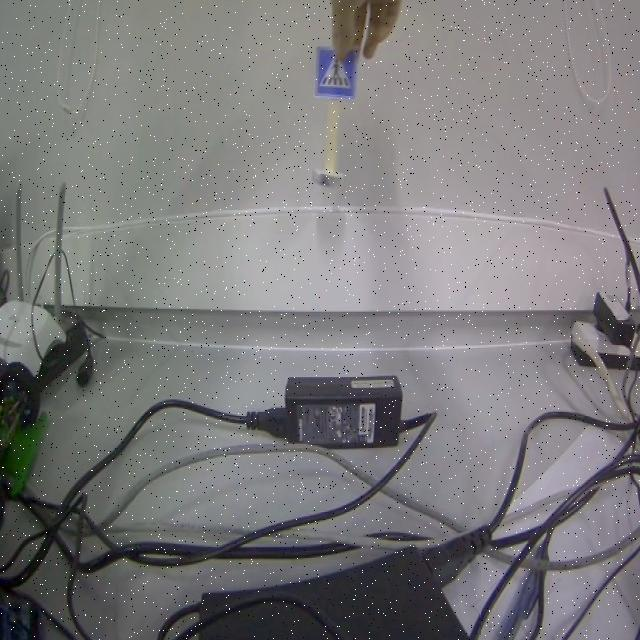Rambu Penyebrangan: (316, 44, 356, 96)
